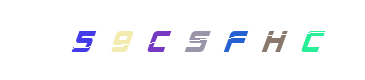5: (91, 0, 171, 80)
9: (113, 0, 193, 80)
C: (116, 0, 196, 80), (271, 0, 351, 80)
F: (159, 0, 239, 80)
H: (234, 0, 314, 80)
S: (141, 0, 221, 80)
